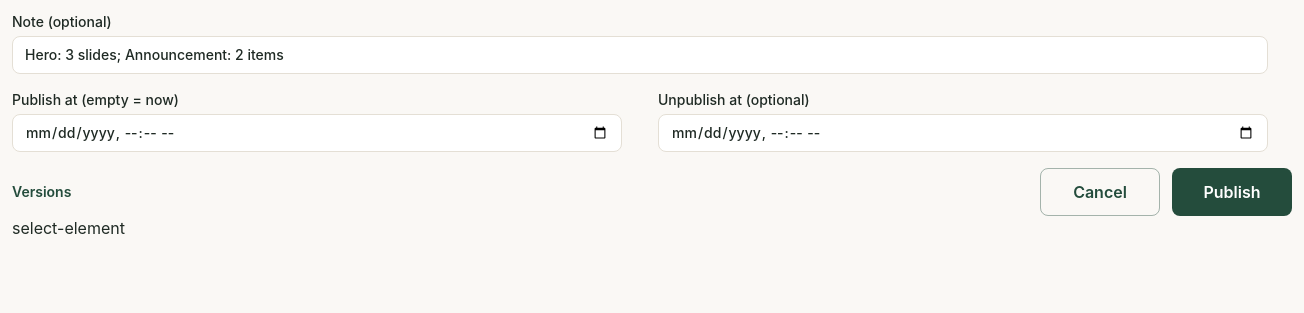
Test case: PublishPanel › blocks submission when unpublish time is not after publish time
Type "2026-10-08T09:30" into the field labelled "Publish at (empty = now)".
click(317, 133); type("2026-10-08T09:30")  # box [12, 114, 622, 152]
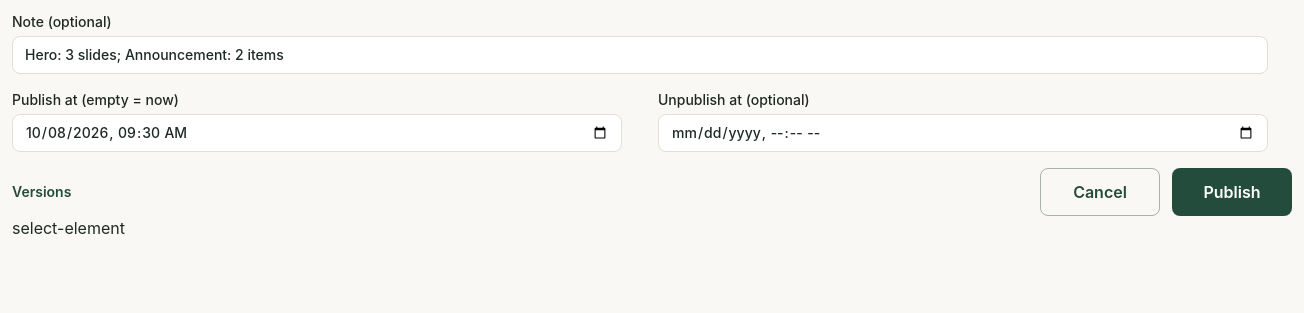
Type "2026-10-01T09:30" into the field labelled "Unpublish at (optional)".
click(963, 133); type("2026-10-01T09:30")  # box [658, 114, 1268, 152]
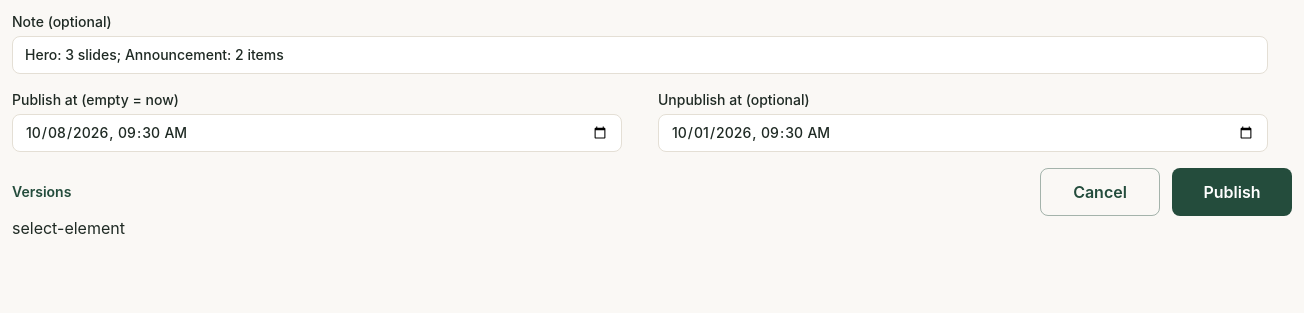
Click the button "Publish".
click(1232, 192)  # box [1172, 168, 1292, 216]
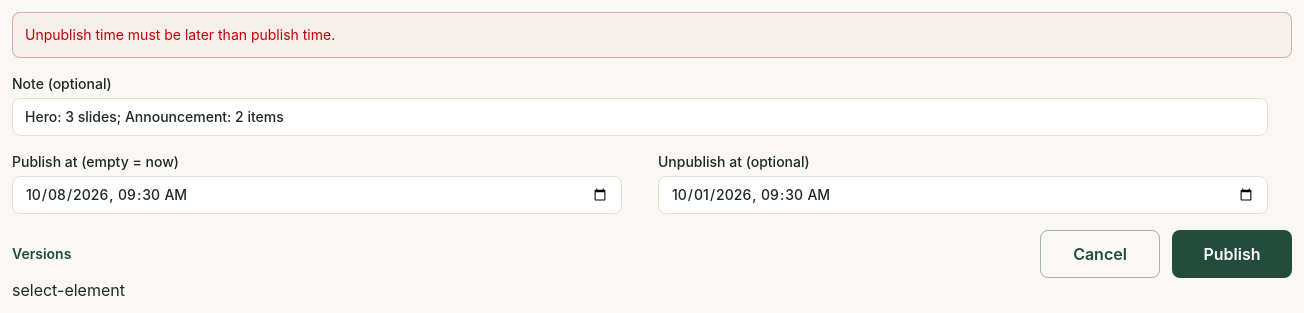
Now the text "Unpublish time must be later than publish time." is shown, box [12, 12, 1292, 58]
